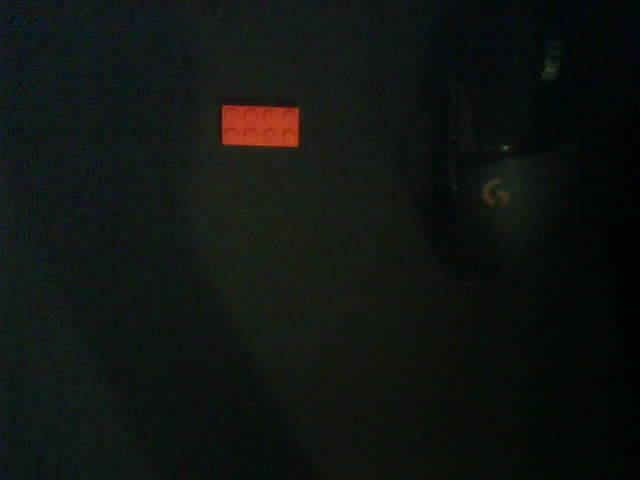lego: (220, 102, 301, 150)
